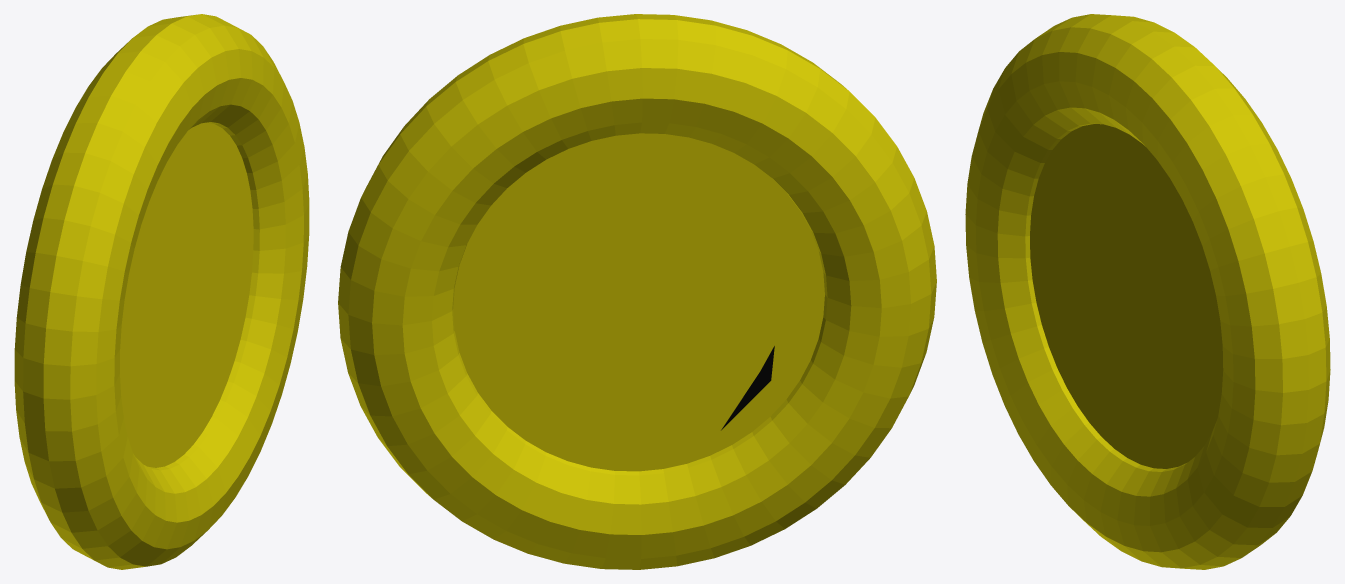
File: coinanimation.fbx
3 renders of one model, left to right at view 1: azimuth 30°, elevation 25°; view 2: azimuth 150°, elevation 25°; view 3: azimuth 270°, elevation 25°, orthographic. The views are drawn at different scales.
Visible parts, largest first — view 1: Torus, Cylinder; view 2: Torus, Cylinder, Plane.002; view 3: Torus, Cylinder.
Boxes of the visible parts, <box> form: Torus: <box>14,14,309,569</box>; Cylinder: <box>120,122,253,467</box>; Torus: <box>338,14,936,569</box>; Cylinder: <box>453,133,824,471</box>; Plane.002: <box>721,346,774,430</box>; Torus: <box>965,14,1330,569</box>; Cylinder: <box>1030,124,1223,468</box>.
Bounding box in the file's own units: 192 × 228 × 146.
